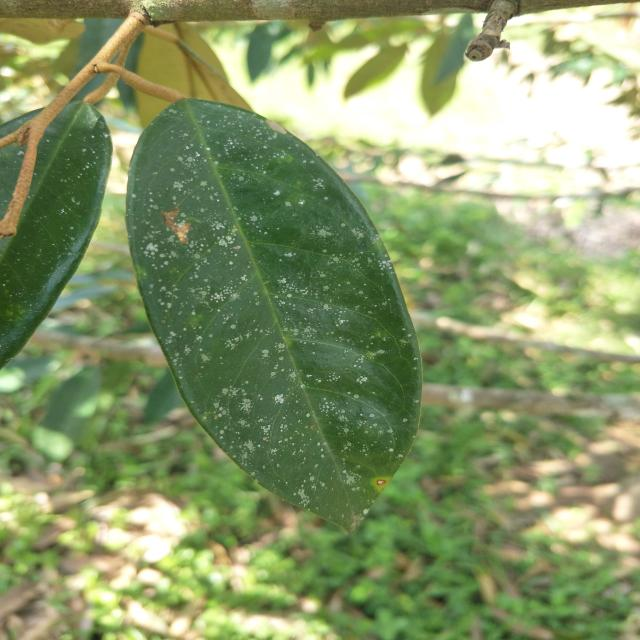Leaf Spot: (130, 106, 419, 507)
